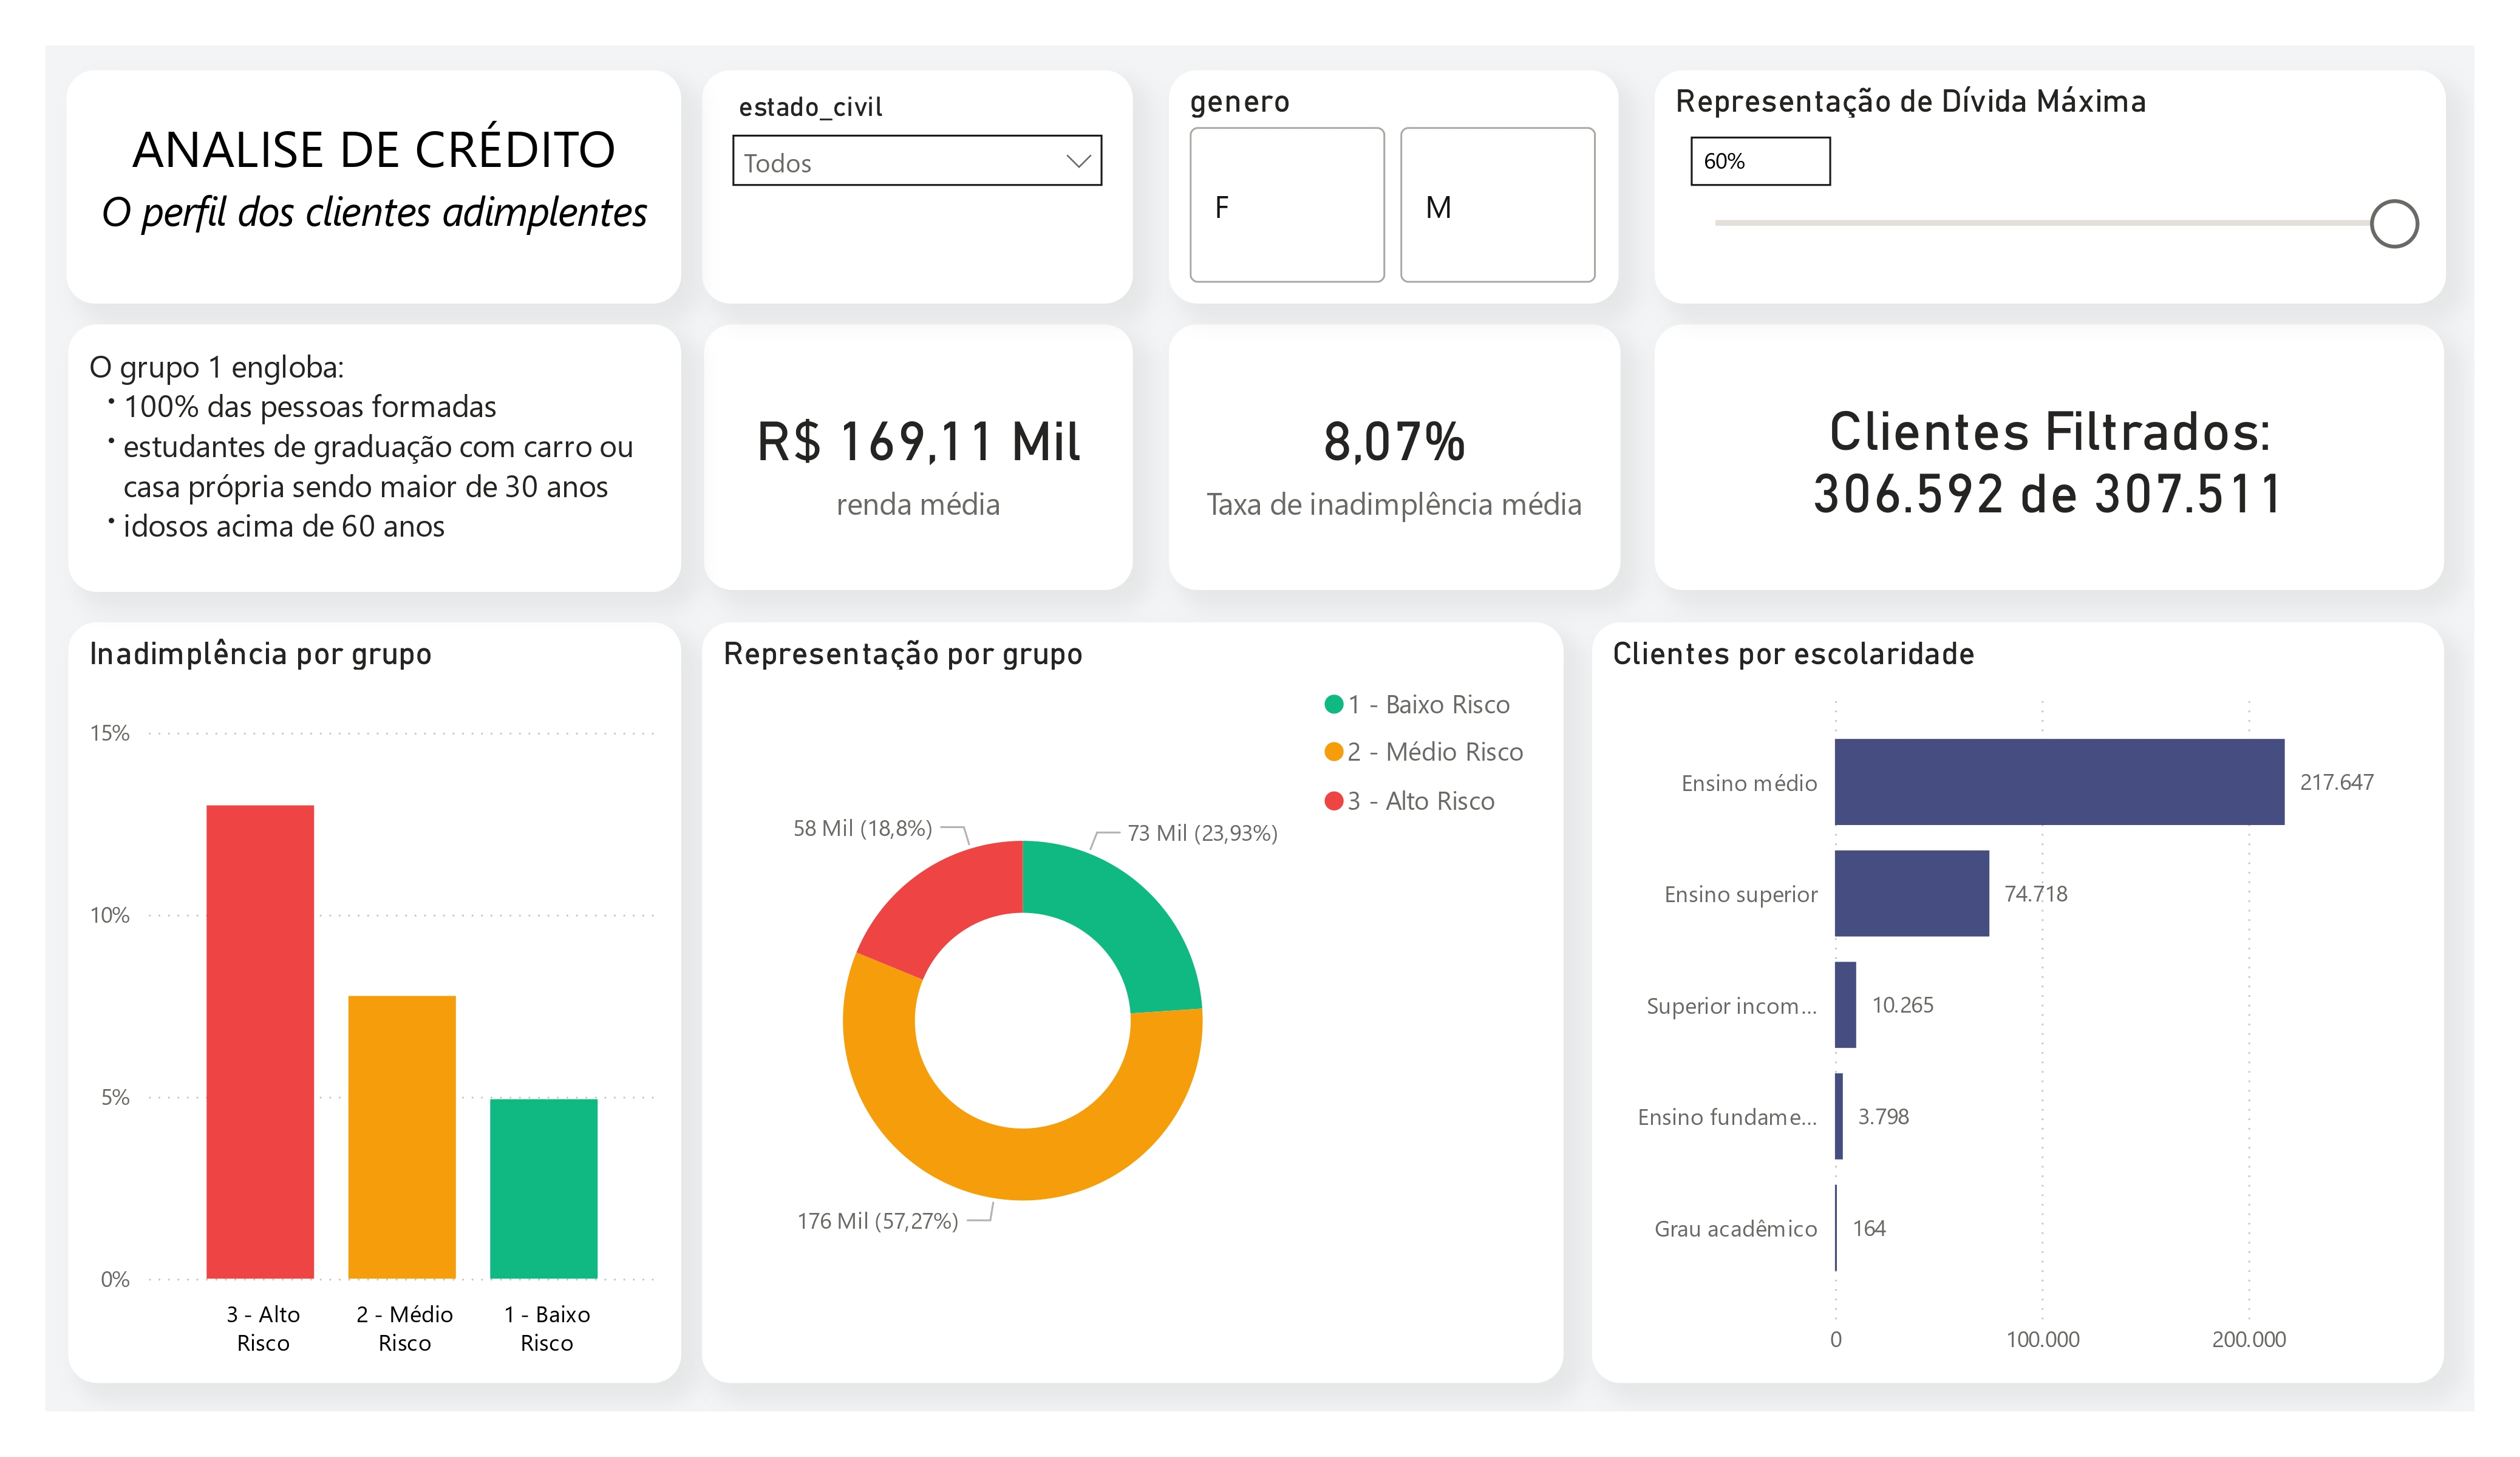

The page's visual inventory and layout, read from the dashboard file:
{"tool":"powerbi","page":{"name":"Página 1","canvas":[1280,720],"ordinal":0},"visuals":[{"type":"card","fields":{"Values":["public vw_base_analitica_final.target_med"]},"box":[592,147,238,140],"z":0},{"type":"card","fields":{"Values":["public vw_base_analitica_final.renda média"]},"box":[347,147,226,140],"z":1000},{"type":"card","fields":{"Values":["public vw_base_analitica_final.frase total cliente"]},"box":[848,147,416,140],"z":2000},{"type":"advancedSlicerVisual","fields":{"Values":["public vw_base_analitica_final.genero"]},"box":[592,13,237,123],"z":3000},{"type":"slicer","fields":{"Values":["public vw_base_analitica_final.estado_civil"]},"box":[346,13,227,123],"z":4000},{"type":"columnChart","title":"Inadimplência por grupo","fields":{"Category":["public vw_base_analitica_final.grup_risco"],"Y":["public vw_base_analitica_final.target_med"]},"box":[11.7,304.3,323.2,400.4],"z":5000},{"type":"donutChart","title":"Representação por grupo","fields":{"Category":["public vw_base_analitica_final.grup_risco"],"Y":["Parâmetro.filtrada"]},"box":[345.7,304.4,454.6,400.1],"z":6000},{"type":"slicer","title":"Representação de Dívida Máxima","fields":{"Values":["Parâmetro.Parâmetro"]},"box":[848,13,417,123],"z":7000},{"type":"textbox","box":[11,13,324,123],"z":8000},{"type":"barChart","title":"Clientes por escolaridade","fields":{"Category":["public vw_base_analitica_final.escolaridade"],"Y":["Parâmetro.filtrada"]},"box":[815.4,304.4,448.5,400.1],"z":9000},{"type":"textbox","box":[12,147,323,141],"z":10000}]}

Visuals, with their boxes on the page's 1280x720 design canvas (x1, y1, x2, y2). These are canvas units, not pixel positions in the 2520x1457 screenshot, which may show the page scaled, cropped or inside an application window:
card - public vw_base_analitica_final.target_med: [592, 147, 830, 287]
card - public vw_base_analitica_final.renda média: [347, 147, 573, 287]
card - public vw_base_analitica_final.frase total cliente: [848, 147, 1264, 287]
advancedSlicerVisual - public vw_base_analitica_final.genero: [592, 13, 829, 136]
slicer - public vw_base_analitica_final.estado_civil: [346, 13, 573, 136]
"Inadimplência por grupo" columnChart: [12, 304, 335, 705]
"Representação por grupo" donutChart: [346, 304, 800, 704]
"Representação de Dívida Máxima" slicer: [848, 13, 1265, 136]
textbox: [11, 13, 335, 136]
"Clientes por escolaridade" barChart: [815, 304, 1264, 704]
textbox: [12, 147, 335, 288]
